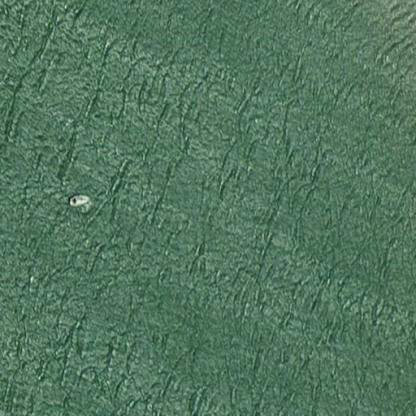ship: (62, 184, 94, 212)
